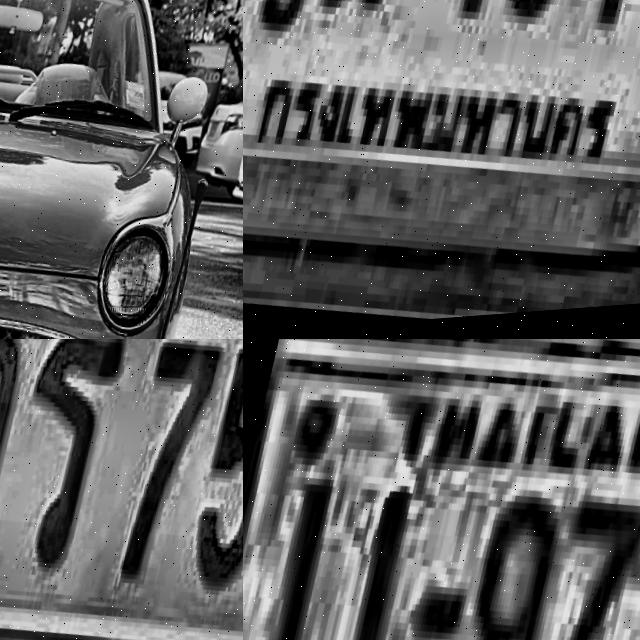license-plate: (243, 0, 640, 339), (243, 339, 640, 640), (0, 339, 243, 640), (212, 125, 224, 145)
